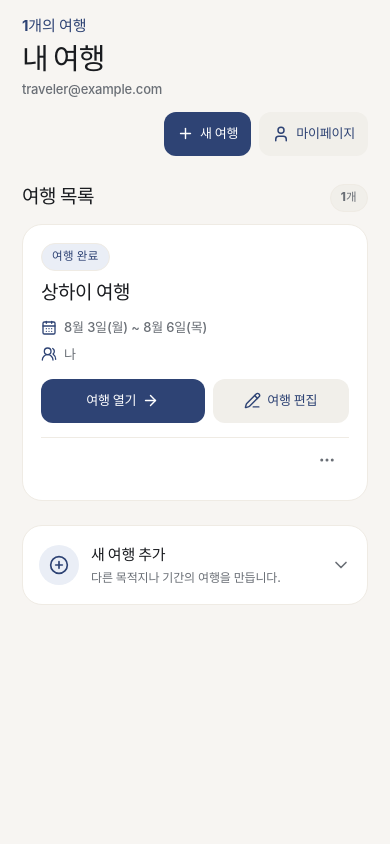
Test: TripManagePage creation flow › 기존 여행이 있으면 생성 폼을 접고 필요할 때 같은 화면에서 연다
Expected: the heading "상하이 여행" is shown, x1=41 y1=281 x2=130 y2=304
Expected: the link "여행 열기" is shown, x1=41 y1=379 x2=205 y2=423
Click the heading named "새 여행 추가 열기": (59, 565) x1=39 y1=545 x2=351 y2=585
(page scrolled)
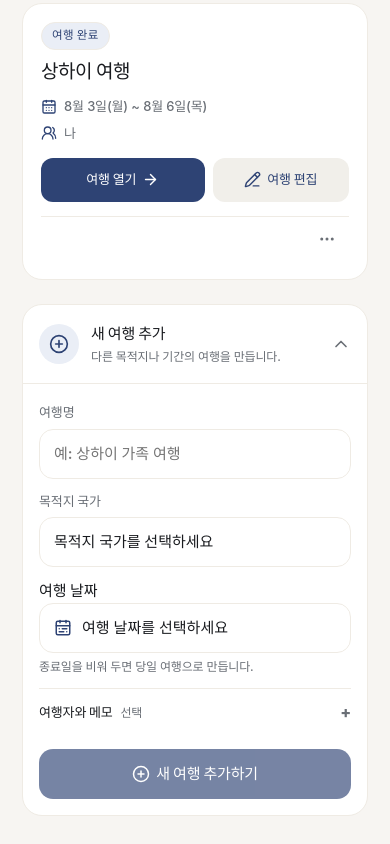
Result: the field labelled "여행명" is shown at x1=39 y1=429 x2=351 y2=479
Click the heading "여행자와 메모 선택": (91, 712) x1=39 y1=704 x2=142 y2=720
(page scrolled)
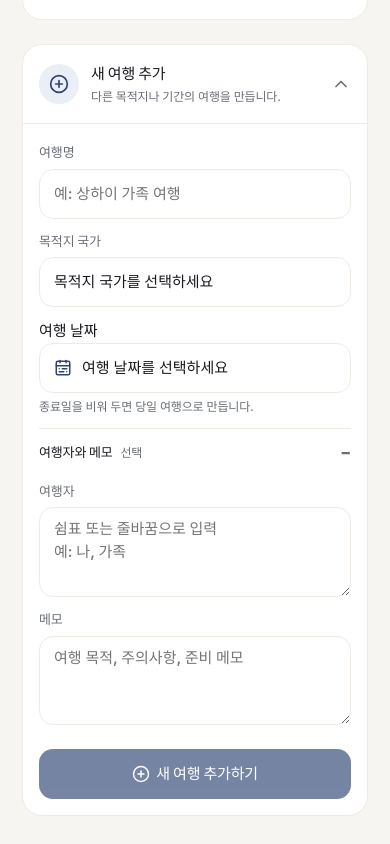
Result: the text box labelled "여행자" is shown at x1=39 y1=508 x2=351 y2=597
